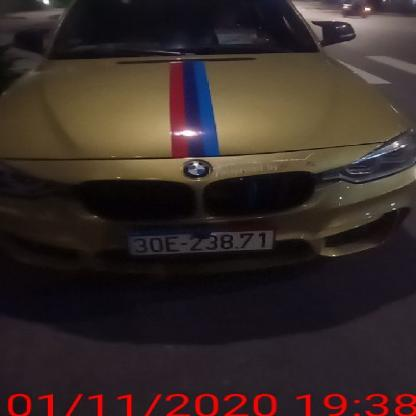biensoxe: (128, 231, 278, 258)
